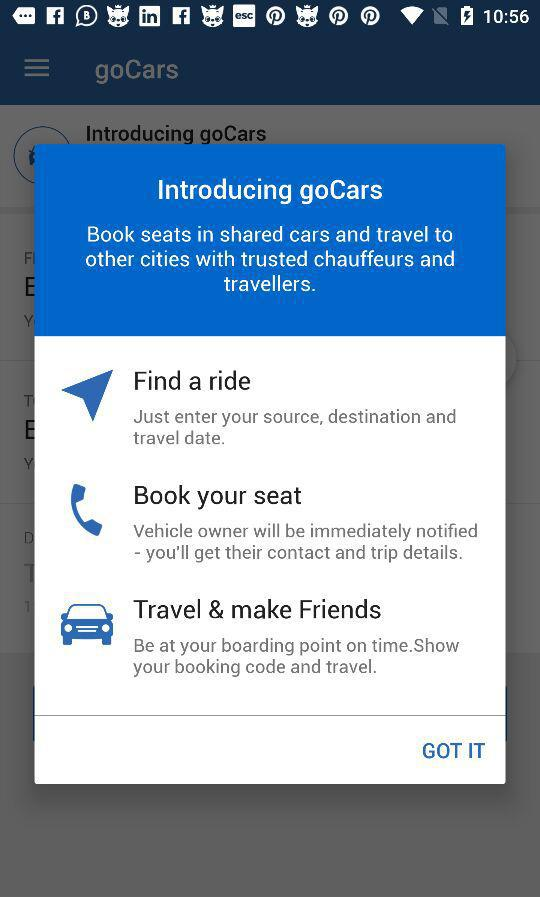Icon: (62, 369, 115, 423), (25, 59, 51, 78)
Image: (61, 603, 115, 646), (71, 483, 104, 537)
Modal: (34, 144, 506, 785)
Text: (85, 225, 456, 293), (133, 522, 478, 564), (133, 637, 460, 678), (133, 408, 457, 446), (158, 178, 383, 207), (133, 598, 382, 620), (135, 484, 303, 511), (134, 370, 252, 392), (96, 60, 179, 86), (422, 742, 486, 760)
UpperTaskBar: (1, 1, 540, 33)
